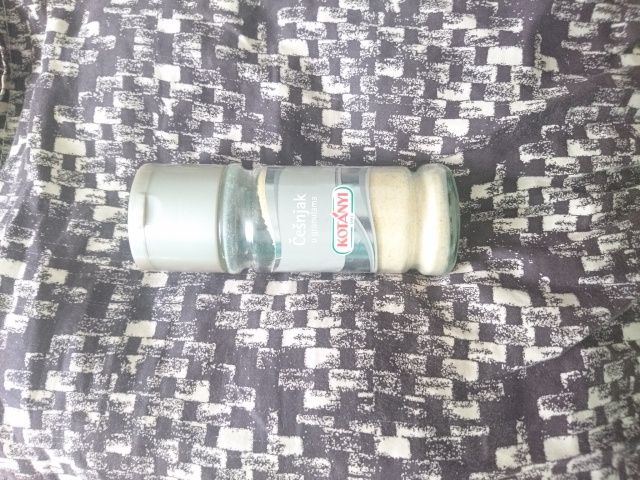Kotanyi Garlic Granules 70g: (124, 160, 464, 280)
